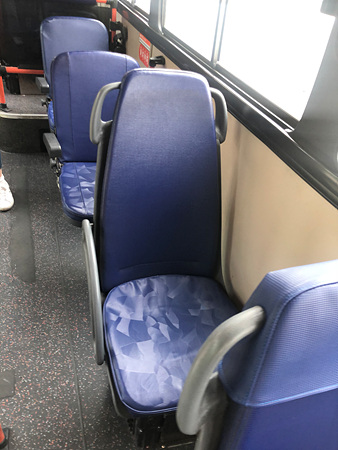seat: (79, 68, 223, 413)
